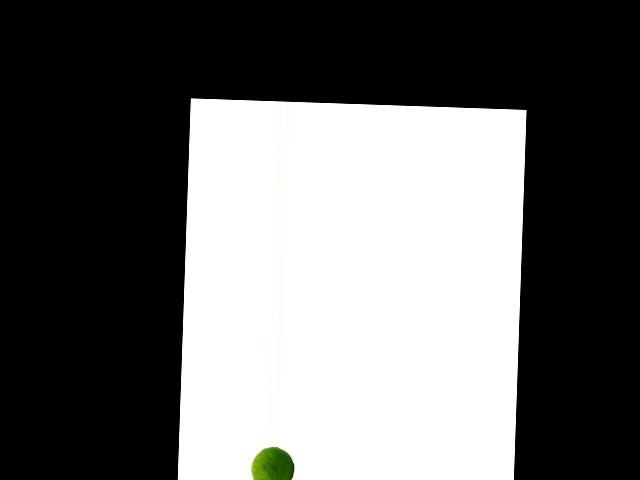lemon: (251, 447, 297, 480)
